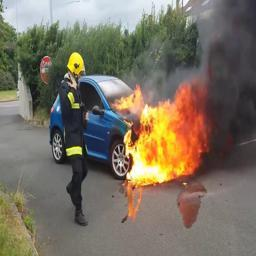fire: (113, 79, 209, 185)
